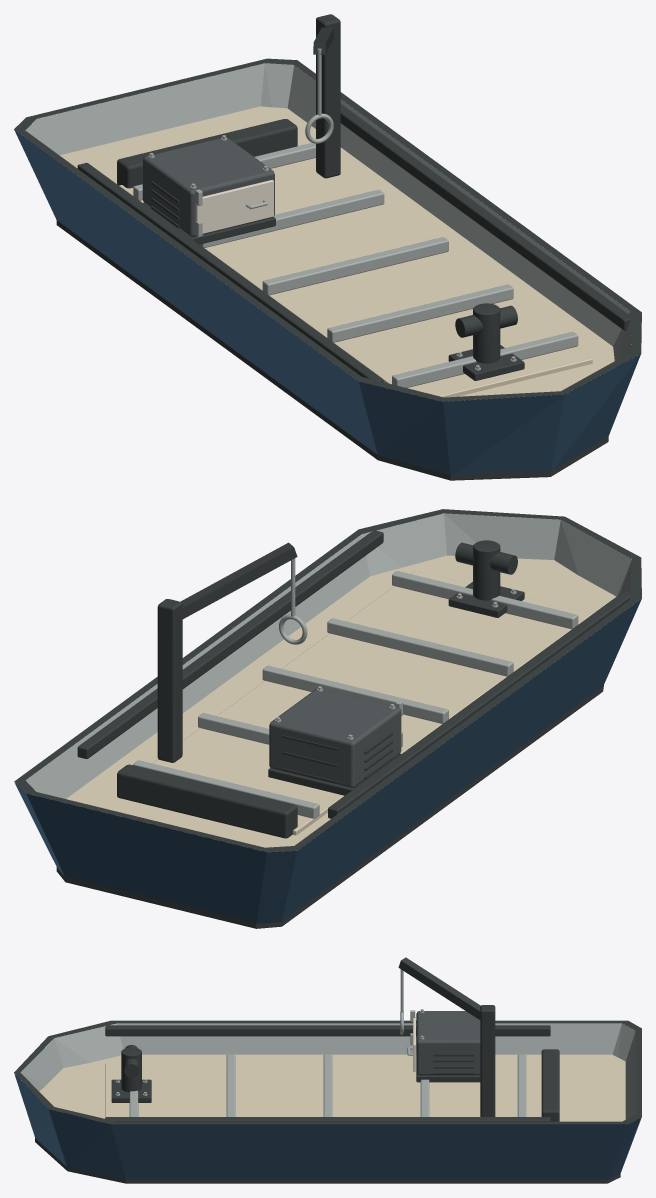
Rendered from canal-boats-and-lock-operations-canal-boats-and-lock-o-342fc263__31643.glb.
3 renders of one model, top to bottom at view 1: azimuth 30°, elevation 25°; view 2: azimuth 150°, elevation 25°; view 3: azimuth 270°, elevation 25°, orthographic. The views are drawn at different scales.
Visible parts, largest first — view 1: canal-boats-and-lock-operations-open-maintenance-workboat; view 2: canal-boats-and-lock-operations-open-maintenance-workboat; view 3: canal-boats-and-lock-operations-open-maintenance-workboat.
Boxes of the visible parts, bbox=[...] form: canal-boats-and-lock-operations-open-maintenance-workboat: bbox=[14, 14, 641, 480]; canal-boats-and-lock-operations-open-maintenance-workboat: bbox=[14, 509, 641, 928]; canal-boats-and-lock-operations-open-maintenance-workboat: bbox=[14, 957, 641, 1183].
Bounding box in the file's own units: 2.15 × 1.83 × 5.5.
